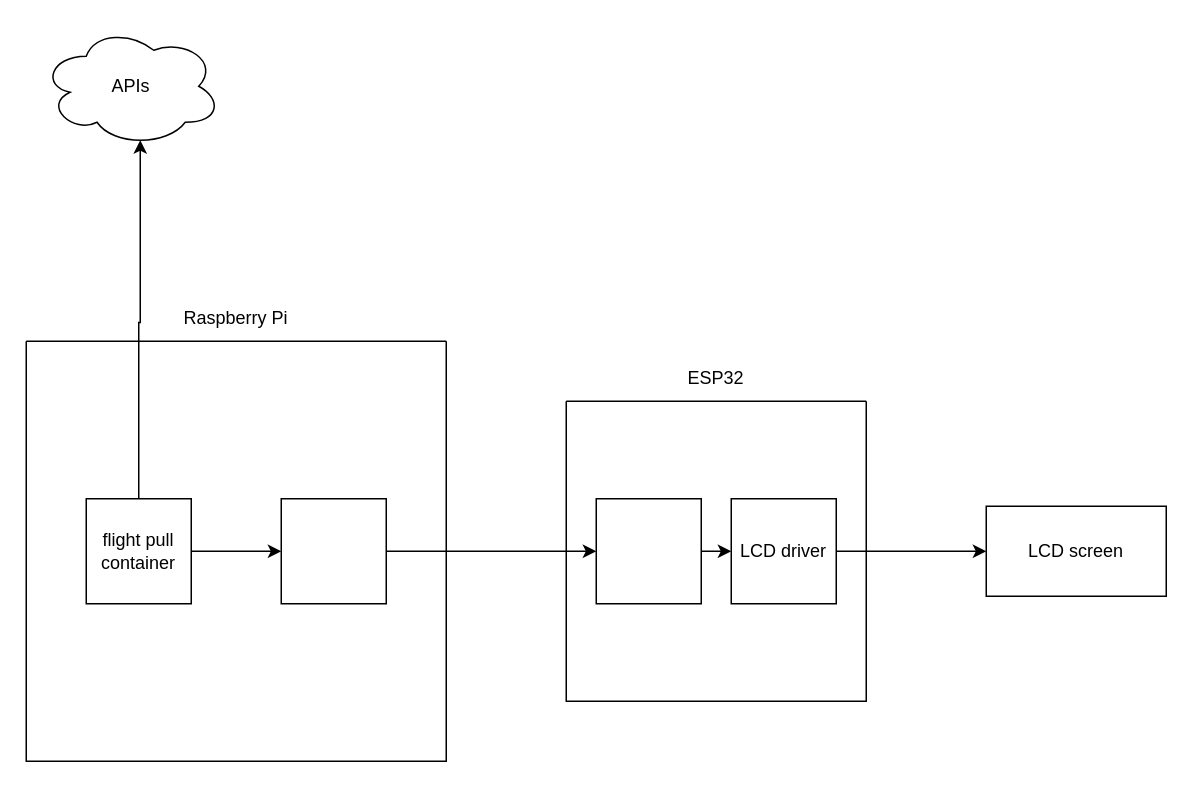
This 1193x788 diagram has some shape labels left out. Here are the shapes that lost their labels. From the top down, the centre of each, then its label:
[333,550]: mosquitto container
[648,550]: mosquitto client
